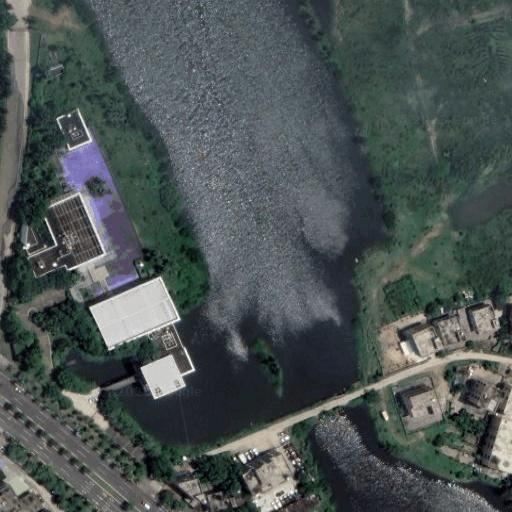building: (83, 275, 179, 353), (41, 191, 108, 272), (134, 353, 185, 401), (52, 106, 95, 152), (250, 451, 294, 493), (482, 414, 512, 474), (0, 473, 38, 512), (24, 243, 64, 279), (410, 321, 440, 363), (403, 386, 441, 419), (101, 260, 140, 291), (433, 315, 468, 347), (475, 382, 508, 414), (467, 305, 500, 333), (14, 222, 41, 251), (241, 465, 263, 497), (203, 489, 232, 512), (180, 477, 203, 500), (502, 386, 512, 419), (229, 494, 240, 510), (185, 497, 199, 509)
